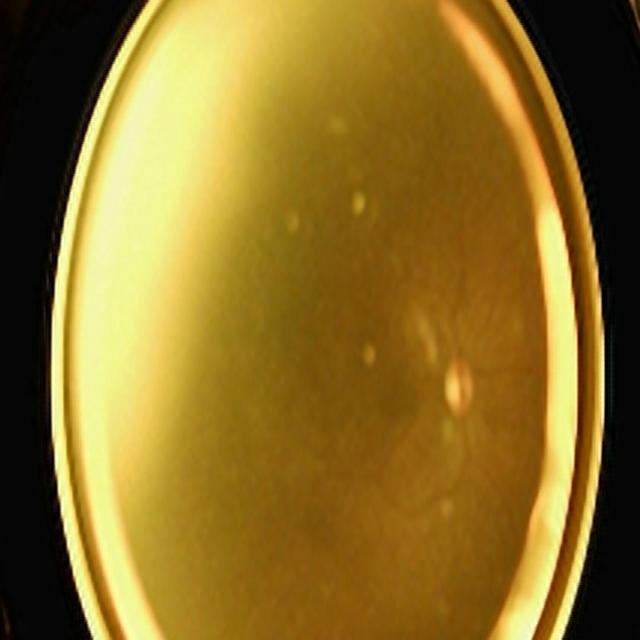optic-nerve: (424, 315, 498, 455)
